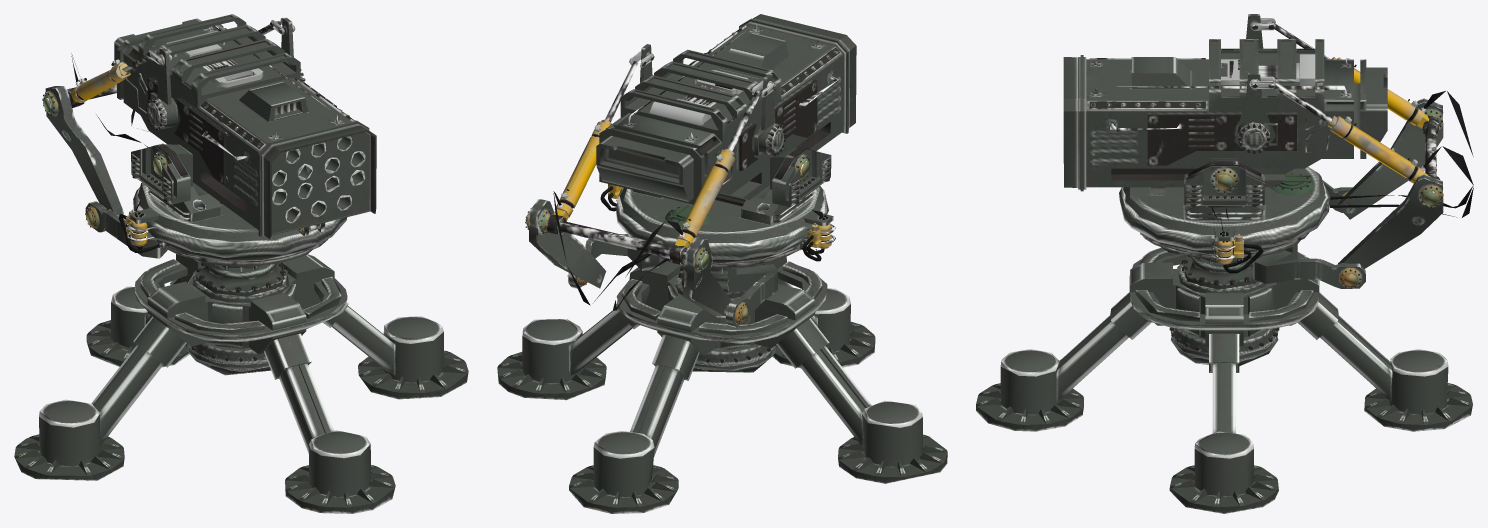
File: mturret.glb
3 renders of one model, left to right at view 1: azimuth 30°, elevation 25°; view 2: azimuth 150°, elevation 25°; view 3: azimuth 270°, elevation 25°, orthographic. The views are drawn at different scales.
Parts seen in each view (by area): view 1: t_low, t_low.025, t_low.019, t_low.005; view 2: t_low, t_low.025, t_low.019, t_low.005; view 3: t_low, t_low.025, t_low.019, t_low.005.
Boxes of the visible parts, box(x1,y1,x2,y2) form: t_low: box(43, 14, 376, 266); t_low.025: box(14, 254, 468, 513); t_low.019: box(85, 188, 189, 258); t_low.005: box(42, 28, 355, 233); t_low: box(525, 14, 856, 317); t_low.025: box(497, 256, 947, 513); t_low.019: box(568, 184, 835, 327); t_low.005: box(525, 26, 837, 323); t_low: box(1063, 14, 1443, 268); t_low.025: box(976, 247, 1472, 513); t_low.019: box(1187, 174, 1365, 288); t_low.005: box(1092, 62, 1473, 288).
Size of the model in its own units: 6.18 by 5 by 6.19.
Materials: 3 (3 with a texture image).
